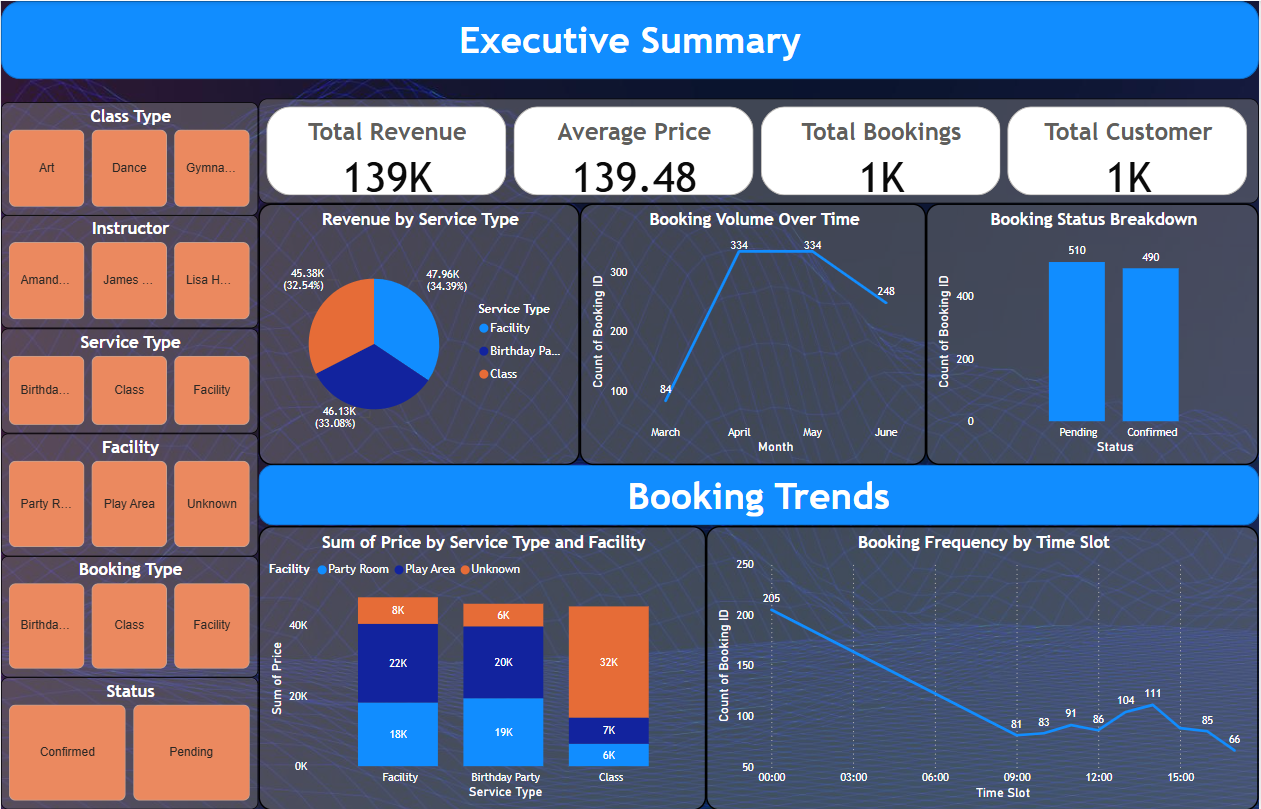

The page's visual inventory and layout, read from the dashboard file:
{"tool":"powerbi","page":{"name":"Page 1","canvas":[1400,900],"ordinal":0},"visuals":[{"type":"cardVisual","fields":{"Data":["Sheet1.Total Revenue","Sheet1.Average Price","Sheet1.Total Bookings","Sheet1.Total Customer"]},"box":[286.7,108.1,1113.6,117.1],"z":0},{"type":"pieChart","title":"Revenue by Service Type","fields":{"Category":["Sheet1.Service Type"],"Y":["Sheet1.Price"]},"box":[286.7,225.1,357.2,291.2],"z":1000},{"type":"shape","box":[0,0,1400.3,87.1],"z":2000},{"type":"shape","box":[286.7,516.3,1113.6,67.5],"z":3000},{"type":"lineChart","title":"Booking Volume Over Time","fields":{"Category":["Sheet1.Booking Date.Variation.Date Hierarchy.Month","Sheet1.Booking Date.Variation.Date Hierarchy.Day"],"Y":["Sheet1.Booking ID"]},"box":[643.9,225.1,385.7,291.2],"z":4000},{"type":"columnChart","title":"Booking Status Breakdown","fields":{"Category":["Sheet1.Status"],"Y":["Sheet1.Booking ID"]},"box":[1029.6,225.1,370.7,291.2],"z":5000},{"type":"advancedSlicerVisual","fields":{"Values":["Sheet1.Service Type"]},"box":[0,364.7,286.7,117.1],"z":6000},{"type":"advancedSlicerVisual","fields":{"Values":["Sheet1.Facility"]},"box":[0,481.8,286.7,136.6],"z":7000},{"type":"advancedSlicerVisual","fields":{"Values":["Sheet1.Instructor"]},"box":[0,238.6,286.7,126.1],"z":8000},{"type":"advancedSlicerVisual","fields":{"Values":["Sheet1.Booking Type"]},"box":[0,618.4,286.7,135.1],"z":9000},{"type":"advancedSlicerVisual","fields":{"Values":["Sheet1.Class Type"]},"box":[0,112.6,286.7,126.1],"z":10000},{"type":"advancedSlicerVisual","fields":{"Values":["Sheet1.Status"]},"box":[0,753.4,286.7,147.1],"z":11000},{"type":"columnChart","fields":{"Category":["Sheet1.Service Type"],"Series":["Sheet1.Facility"],"Y":["Sheet1.Price"]},"box":[286.7,583.8,498.3,316.7],"z":12000},{"type":"lineChart","title":"Booking Frequency by Time Slot","fields":{"Category":["Sheet1.Time Slot"],"Y":["Sheet1.Booking ID"]},"box":[785,583.8,615.4,316.7],"z":13000}]}

Visuals, with their boxes in screenshot pixels (x1, y1, x2, y2), scaled from the page's 1400x900 canvas onto the 1261x809 screenshot:
cardVisual - Sheet1.Total Revenue x Sheet1.Average Price: crop(258, 97, 1260, 202)
"Revenue by Service Type" pieChart: crop(258, 202, 580, 464)
shape: crop(0, 0, 1260, 78)
shape: crop(258, 464, 1260, 525)
"Booking Volume Over Time" lineChart: crop(580, 202, 927, 464)
"Booking Status Breakdown" columnChart: crop(927, 202, 1260, 464)
advancedSlicerVisual - Sheet1.Service Type: crop(0, 328, 258, 433)
advancedSlicerVisual - Sheet1.Facility: crop(0, 433, 258, 556)
advancedSlicerVisual - Sheet1.Instructor: crop(0, 214, 258, 328)
advancedSlicerVisual - Sheet1.Booking Type: crop(0, 556, 258, 677)
advancedSlicerVisual - Sheet1.Class Type: crop(0, 101, 258, 215)
advancedSlicerVisual - Sheet1.Status: crop(0, 677, 258, 808)
columnChart - Sheet1.Service Type x Sheet1.Facility: crop(258, 525, 707, 808)
"Booking Frequency by Time Slot" lineChart: crop(707, 525, 1260, 808)
